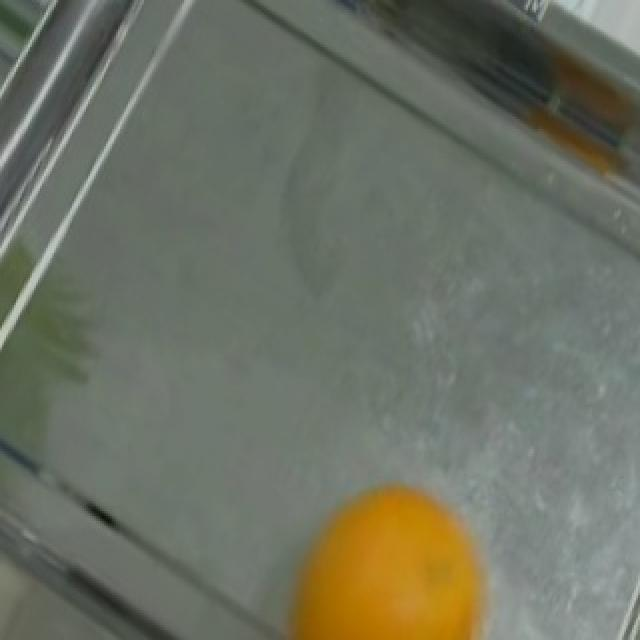Fruit: (266, 466, 508, 640)
